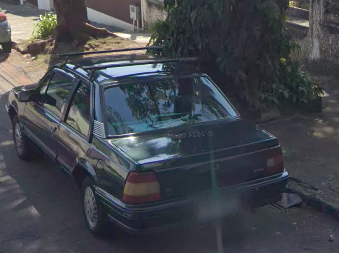car: (5, 50, 290, 238)
